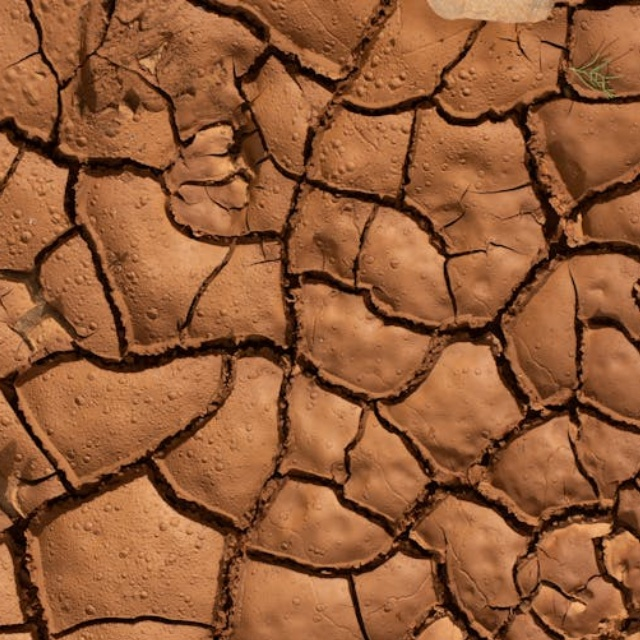深大裂缝: (111, 380, 307, 640), (435, 99, 640, 328), (0, 62, 229, 226), (0, 301, 340, 407)
网状裂隙: (261, 269, 640, 640)
